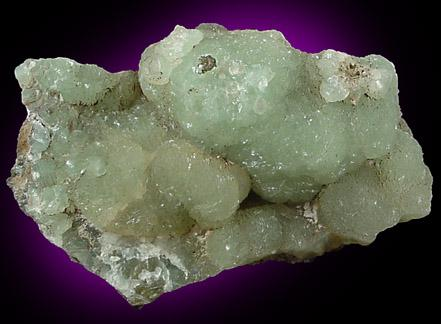prehnite: (16, 24, 433, 270)
